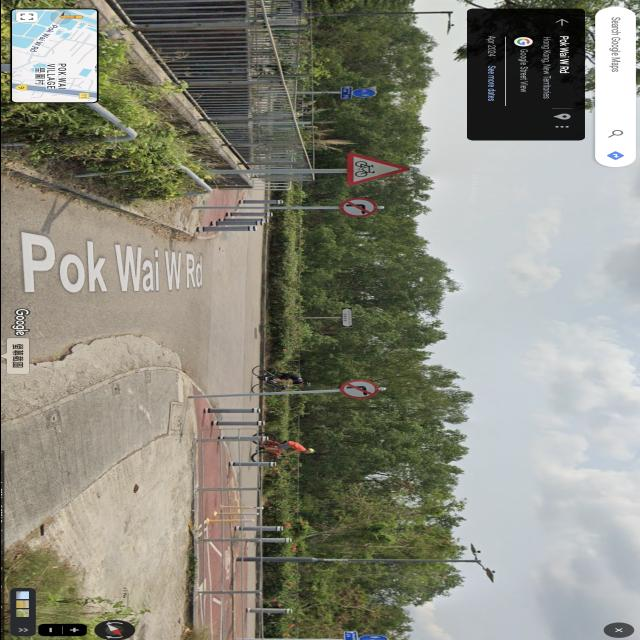Direction-Sign: (341, 87, 352, 99), (344, 631, 356, 640)
Order-Sign: (341, 198, 375, 216), (342, 380, 376, 398), (353, 89, 373, 97)
Street-Direction-Sign: (340, 308, 350, 327)
Warning-Sign: (347, 151, 410, 187)
